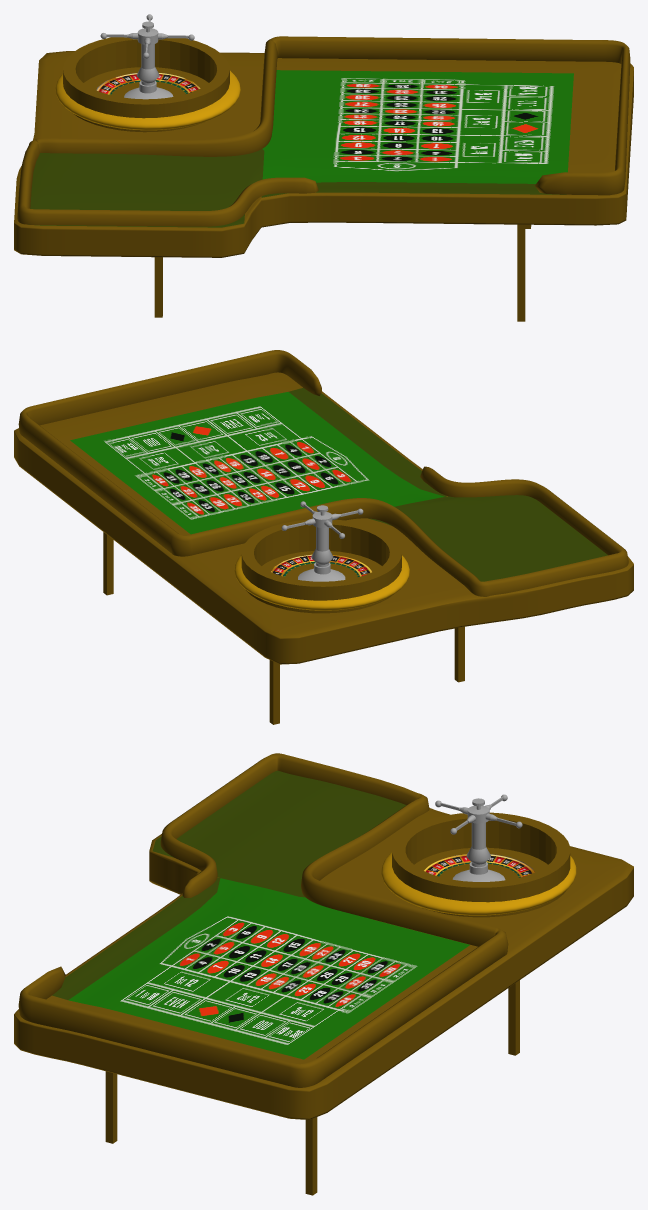
Rendered from mesa de apostas.fbx.
The picture shows the model from 3 angles, top to bottom: view 1: azimuth 30°, elevation 25°; view 2: azimuth 150°, elevation 25°; view 3: azimuth 270°, elevation 25°; orthographic projection. The views are drawn at different scales.
Visible parts, largest first — view 1: polySurface2558, polySurface2550, polySurface2555, polySurface2556, polySurface2557, polySurface2554, polySurface2559, polySurface2553; view 2: polySurface2558, polySurface2550, polySurface2555, polySurface2556, polySurface2557, polySurface2559, polySurface2552, polySurface2551, polySurface2553; view 3: polySurface2558, polySurface2550, polySurface2555, polySurface2556, polySurface2557, polySurface2551, polySurface2554, polySurface2559, polySurface2552.
Part boxes in pixels (x1,y1,x2,y2): polySurface2558: [14, 51, 633, 257]; polySurface2550: [17, 36, 630, 226]; polySurface2555: [63, 37, 229, 132]; polySurface2556: [55, 70, 240, 130]; polySurface2557: [96, 73, 200, 94]; polySurface2554: [517, 224, 525, 321]; polySurface2559: [136, 44, 159, 93]; polySurface2553: [154, 257, 162, 317]; polySurface2558: [14, 372, 633, 664]; polySurface2550: [18, 350, 628, 596]; polySurface2555: [241, 519, 401, 613]; polySurface2556: [234, 555, 409, 610]; polySurface2557: [271, 554, 372, 576]; polySurface2559: [311, 527, 333, 574]; polySurface2552: [269, 660, 279, 724]; polySurface2551: [103, 532, 113, 595]; polySurface2553: [454, 626, 464, 682]; polySurface2558: [14, 770, 633, 1119]; polySurface2550: [18, 753, 508, 1087]; polySurface2555: [392, 812, 570, 917]; polySurface2556: [381, 852, 576, 915]; polySurface2557: [424, 854, 534, 877]; polySurface2551: [305, 1117, 317, 1195]; polySurface2554: [105, 1071, 117, 1143]; polySurface2559: [466, 822, 490, 874]; polySurface2552: [508, 980, 519, 1055].
Size of the model in its own units: 129 by 43.26 by 103.
Materials: 12 (2 with a texture image).
